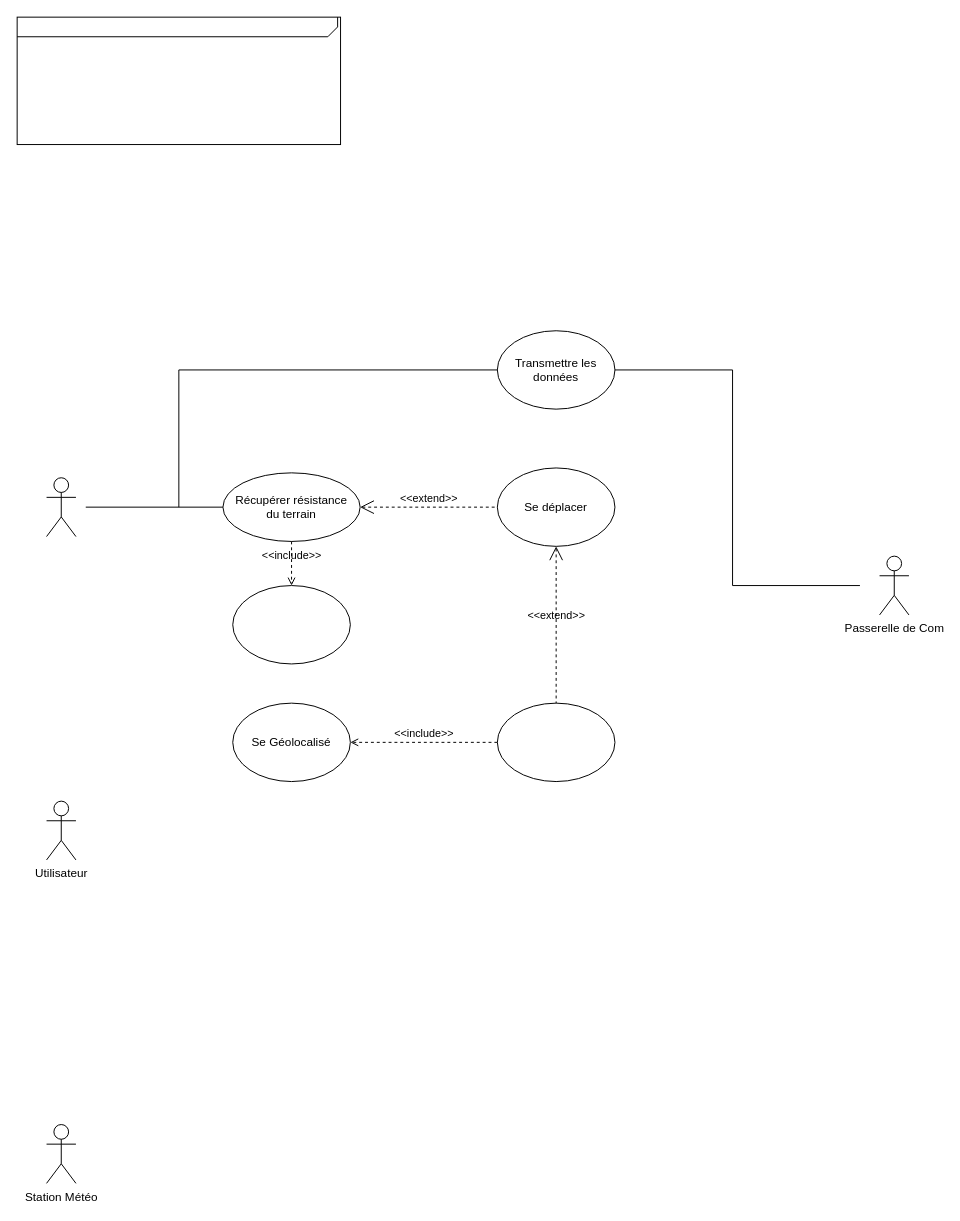
Image size: 960x1221. Some labels were removed from this diagram. Each missing label, with the box of its shape:
Déplacé le pénétromètre: (232, 585, 350, 664)
Robot Autonome: (46, 477, 76, 537)
S'orienté: (496, 702, 615, 782)
uc [Model] PremiumGalop[Robot_Météo_Pénétromètre]: (16, 16, 341, 145)
